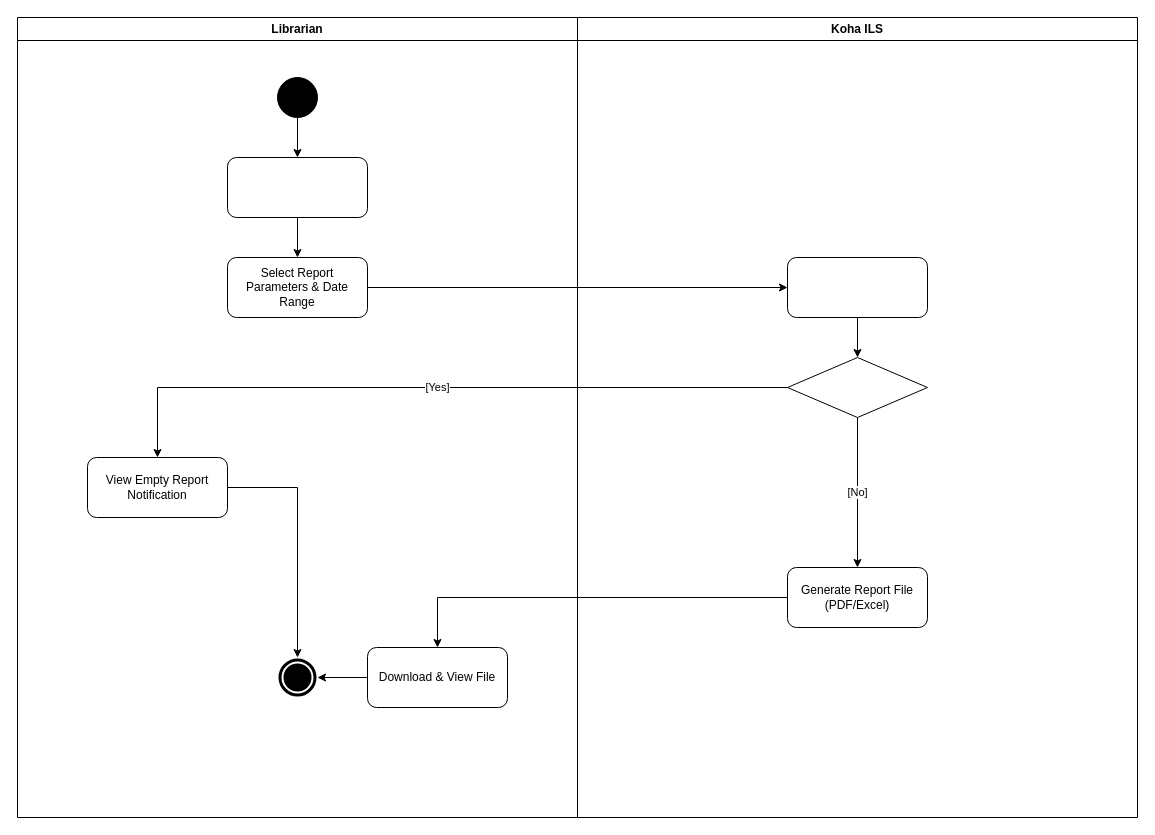
Some shapes in this 1155 by 835 pixel diagram are drawn without their labels. Here are the shapes that lost their labels. From the top down, the centre of each, then its label:
At (x=297, y=187): "Login to Koha ILS".
At (x=857, y=287): "Execute Analytics Query".
At (x=857, y=387): "No Data Found?".
